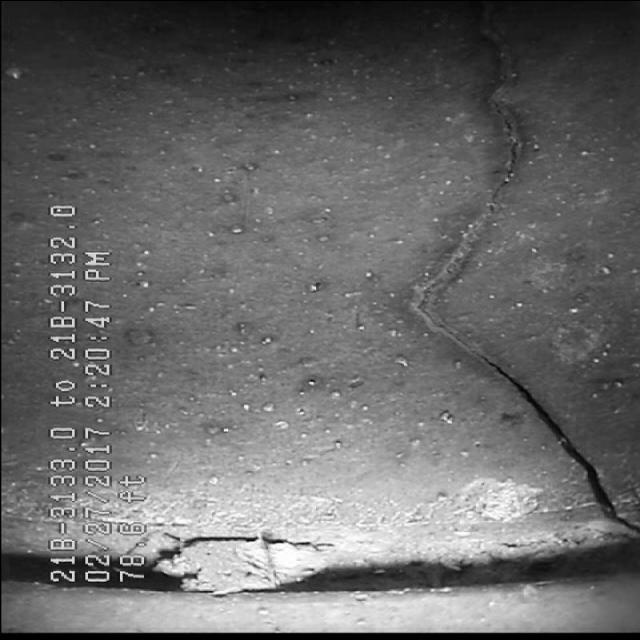Crack: (353, 68, 599, 472)
